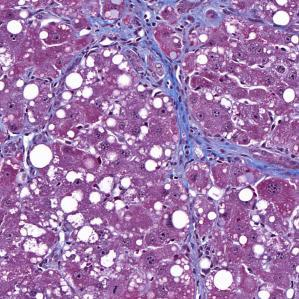fibrosis: (122, 8, 207, 70), (171, 127, 252, 172)
